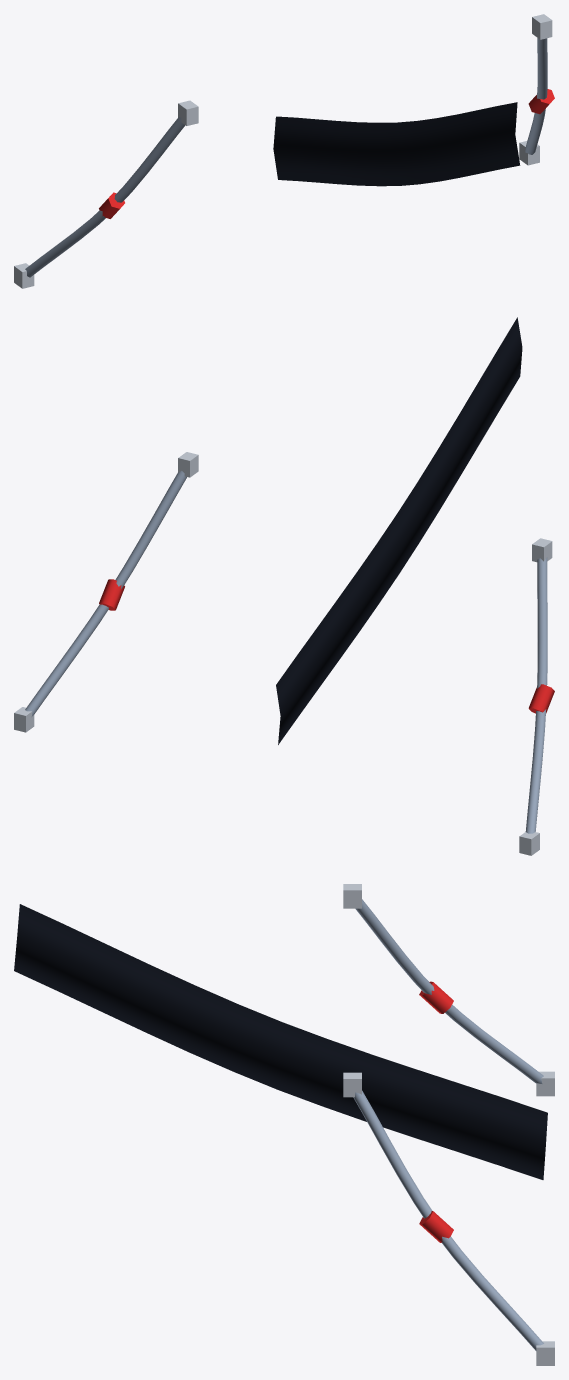
File: splitter_struts_keel.glb
The picture shows the model from 3 angles, top to bottom: view 1: azimuth 30°, elevation 25°; view 2: azimuth 150°, elevation 25°; view 3: azimuth 270°, elevation 25°; orthographic projection. The views are drawn at different scales.
Parts seen in each view (by area): view 1: Splitter_Turnbuckles_Keel_Assembly; view 2: Splitter_Turnbuckles_Keel_Assembly; view 3: Splitter_Turnbuckles_Keel_Assembly.
Part boxes in pixels (<box>): Splitter_Turnbuckles_Keel_Assembly: <box>14,14,554,288</box>; Splitter_Turnbuckles_Keel_Assembly: <box>14,317,554,855</box>; Splitter_Turnbuckles_Keel_Assembly: <box>14,884,554,1365</box>.
Size of the model in its own units: 0.778 by 0.4262 by 0.6446.
